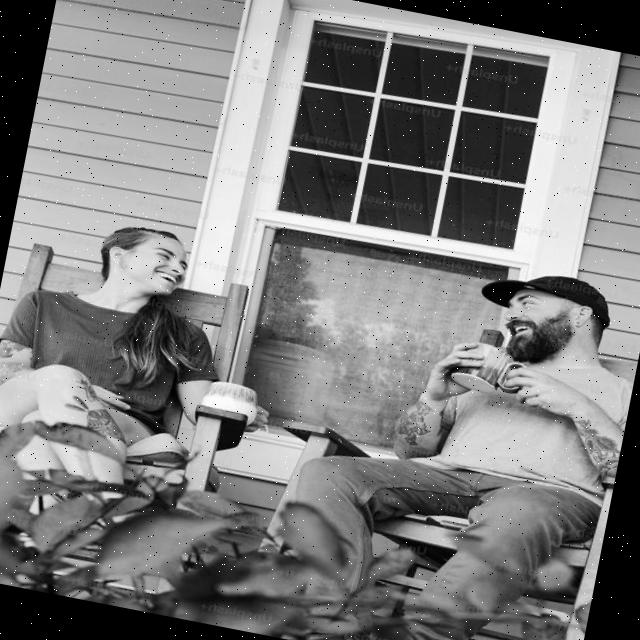Happiness: (494, 287, 576, 373), (115, 228, 193, 301)
